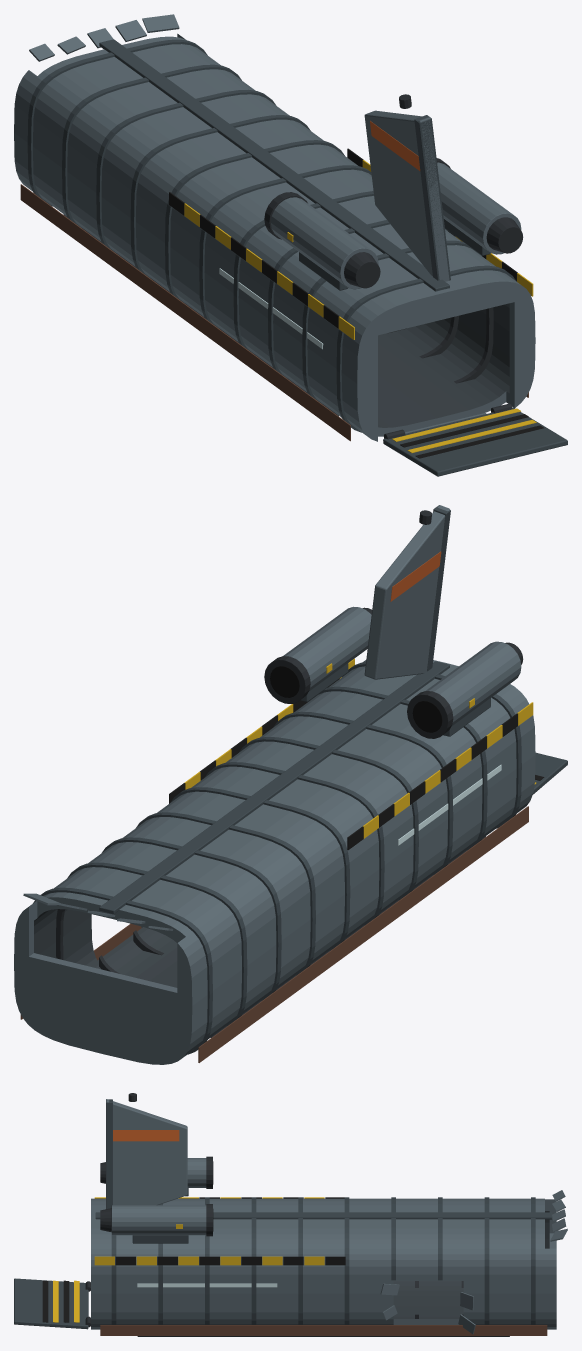
Rendered from site_hauler.glb.
The picture shows the model from 3 angles, top to bottom: view 1: azimuth 30°, elevation 25°; view 2: azimuth 150°, elevation 25°; view 3: azimuth 270°, elevation 25°; orthographic projection. The views are drawn at different scales.
Parts seen in each view (by area): view 1: fin, door, tide-1, hinge-1, dstripe0, dstripe1, fin_band, frost-1; view 2: fin, door, tide-1, hinge-1, dstripe1, dstripe0, fan-1, fin_band; view 3: fin, door, tide-1, dstripe0, dstripe1, hinge-1, fin_band, frost-1.
Boxes of the visible parts, left/top/right/bottom form: fin: left=14, top=14, right=535, bottom=441; door: left=27, top=39, right=567, bottom=476; tide-1: left=20, top=184, right=528, bottom=441; hinge-1: left=63, top=94, right=523, bottom=439; dstripe0: left=184, top=160, right=536, bottom=452; dstripe1: left=169, top=148, right=543, bottom=458; fin_band: left=370, top=121, right=420, bottom=170; frost-1: left=219, top=268, right=323, bottom=349; fin: left=14, top=505, right=535, bottom=1064; door: left=33, top=506, right=567, bottom=1054; tide-1: left=20, top=806, right=528, bottom=1062; hinge-1: left=56, top=510, right=523, bottom=1037; dstripe1: left=169, top=678, right=544, bottom=850; dstripe0: left=184, top=658, right=536, bottom=838; fan-1: left=270, top=666, right=442, bottom=732; fin_band: left=390, top=551, right=441, bottom=601; fin: left=91, top=1099, right=567, bottom=1334; door: left=14, top=1099, right=551, bottom=1329; tide-1: left=100, top=1325, right=547, bottom=1335; dstripe0: left=53, top=1197, right=324, bottom=1322; dstripe1: left=42, top=1197, right=345, bottom=1322; hinge-1: left=85, top=1093, right=509, bottom=1336; fin_band: left=113, top=1130, right=179, bottom=1141; frost-1: left=137, top=1283, right=277, bottom=1287.
Size of the model in its own units: 6.57 by 10.21 by 23.78.
